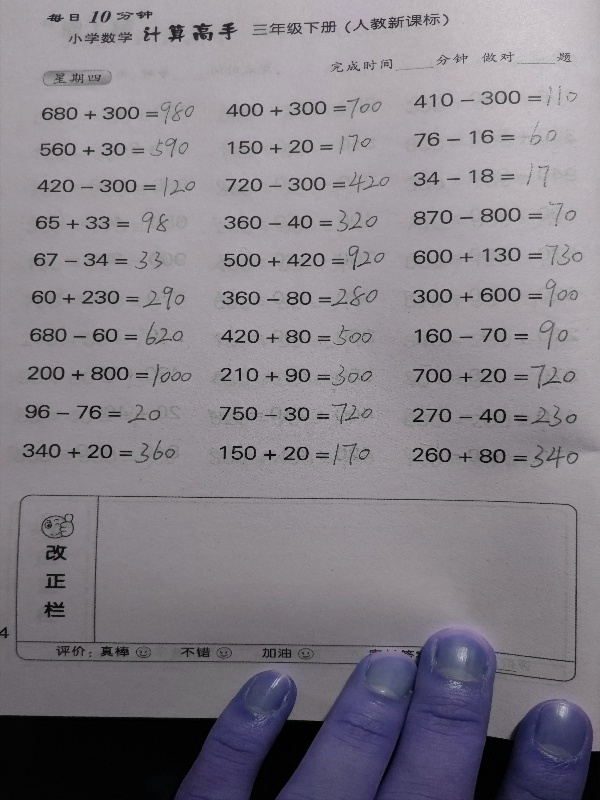equation: (410, 279, 582, 311), (411, 316, 571, 350), (409, 441, 583, 472), (221, 242, 389, 274), (24, 360, 196, 391), (409, 196, 581, 227), (410, 361, 580, 392), (25, 320, 186, 352), (410, 401, 581, 431), (410, 116, 562, 149), (28, 283, 189, 314), (410, 80, 582, 109), (39, 93, 199, 124), (221, 206, 382, 236), (18, 438, 178, 468), (219, 282, 382, 311), (221, 168, 393, 195), (218, 361, 377, 390), (216, 440, 374, 469), (218, 321, 376, 350), (216, 400, 377, 428), (35, 171, 201, 198), (409, 243, 583, 268), (32, 208, 172, 237), (224, 133, 374, 160), (410, 162, 555, 189), (36, 135, 197, 159), (222, 95, 380, 119), (22, 401, 165, 427), (30, 248, 166, 274)
